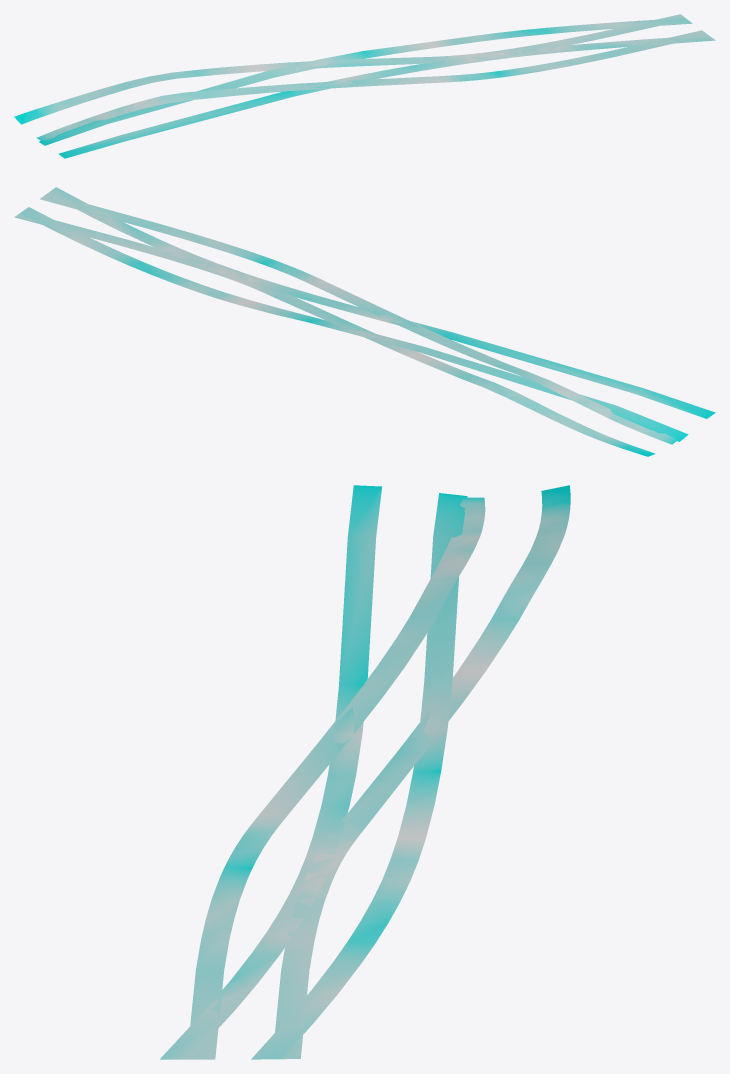
3 renders of one model, top to bottom at view 1: azimuth 30°, elevation 25°; view 2: azimuth 150°, elevation 25°; view 3: azimuth 270°, elevation 25°, orthographic. The views are drawn at different scales.
Parts seen in each view (by area): view 1: SpaceCenter_Long3_GenerateRoad_Sand_TireTracks_Narrow_Mesh_x; view 2: SpaceCenter_Long3_GenerateRoad_Sand_TireTracks_Narrow_Mesh_x; view 3: SpaceCenter_Long3_GenerateRoad_Sand_TireTracks_Narrow_Mesh_x.
Boxes of the visible parts, bbox=[...] form: SpaceCenter_Long3_GenerateRoad_Sand_TireTracks_Narrow_Mesh_x: bbox=[14, 14, 715, 158]; SpaceCenter_Long3_GenerateRoad_Sand_TireTracks_Narrow_Mesh_x: bbox=[14, 187, 715, 456]; SpaceCenter_Long3_GenerateRoad_Sand_TireTracks_Narrow_Mesh_x: bbox=[160, 485, 570, 1059].
Bounding box in the file's own units: 312 × 1056 × 35.58.
